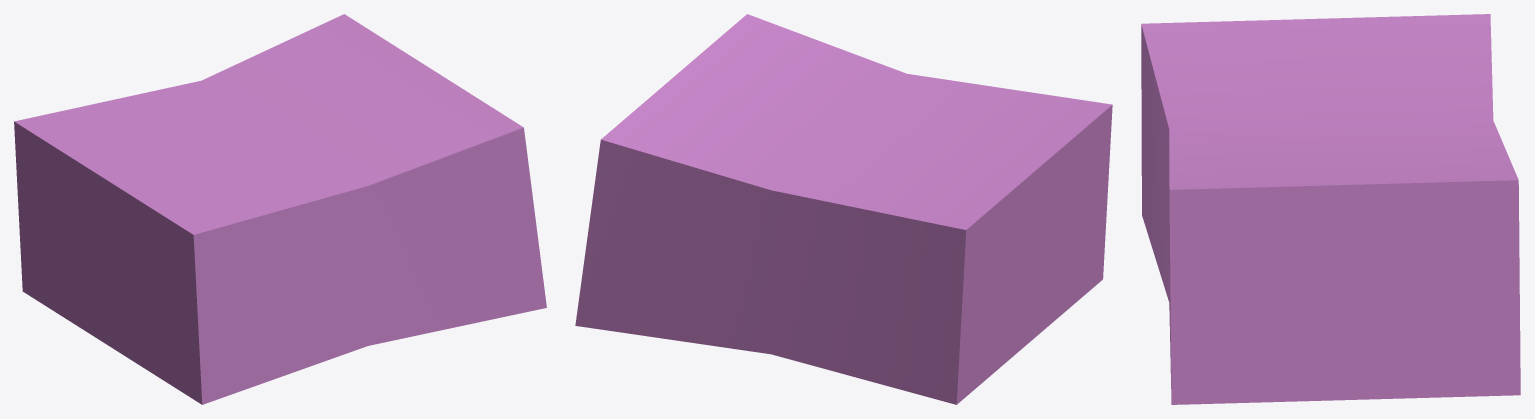
The model's file is P_city_box.fbx.
3 views of the same model, side by side, from view 1: azimuth 30°, elevation 25°; view 2: azimuth 150°, elevation 25°; view 3: azimuth 270°, elevation 25° (orthographic). The views are drawn at different scales.
Visible parts, largest first — view 1: P_city_box; view 2: P_city_box; view 3: P_city_box.
Boxes of the visible parts, bbox=[...] form: P_city_box: bbox=[14, 14, 546, 404]; P_city_box: bbox=[575, 14, 1112, 404]; P_city_box: bbox=[1141, 14, 1520, 404].
Size of the model in its own units: 31.26 by 14.47 by 24.59.
